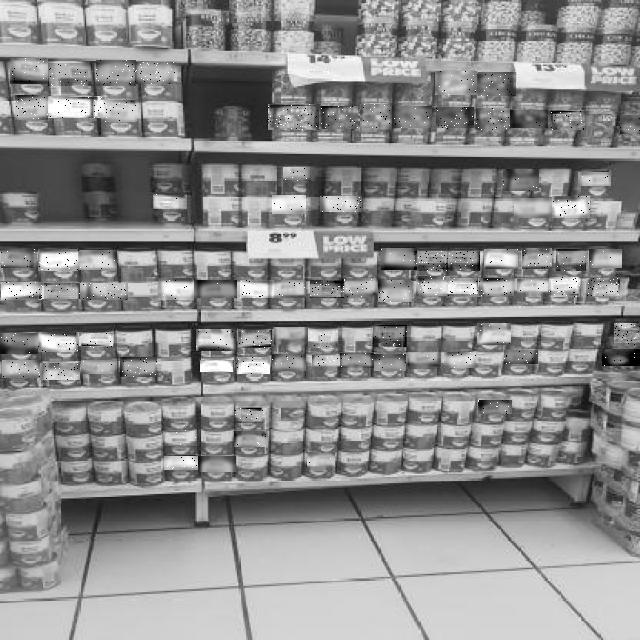Beans: (268, 104, 320, 130), (48, 96, 104, 118), (96, 60, 136, 86), (48, 63, 92, 86), (435, 71, 477, 95), (10, 58, 48, 84), (478, 73, 516, 97), (319, 106, 358, 129), (360, 105, 392, 133), (136, 62, 176, 84), (393, 106, 433, 128), (39, 249, 79, 271), (196, 329, 236, 351), (37, 333, 79, 353), (437, 108, 475, 130), (552, 197, 590, 219), (15, 95, 48, 120), (80, 283, 128, 300), (77, 250, 117, 270), (0, 333, 38, 354), (101, 100, 137, 122), (503, 169, 539, 191), (381, 248, 417, 270), (158, 278, 194, 300), (374, 325, 410, 347), (194, 280, 237, 298), (514, 199, 552, 219), (340, 278, 380, 297), (2, 282, 44, 300), (476, 108, 510, 130), (379, 280, 413, 302), (477, 323, 511, 345), (308, 326, 342, 348), (274, 328, 308, 350), (120, 357, 157, 377), (549, 110, 585, 130), (2, 360, 41, 378), (510, 110, 548, 128), (485, 249, 519, 269), (414, 251, 448, 271), (416, 276, 450, 296), (40, 363, 80, 380), (321, 196, 363, 212), (40, 283, 82, 299), (556, 249, 586, 271), (271, 280, 307, 298), (272, 195, 306, 214), (2, 249, 36, 268), (448, 278, 482, 297), (586, 278, 620, 297), (602, 349, 640, 366), (448, 251, 480, 271), (522, 248, 552, 269), (589, 249, 622, 268), (549, 277, 580, 297), (311, 280, 345, 298), (240, 280, 274, 298), (239, 330, 273, 348), (162, 431, 200, 447), (198, 456, 236, 472), (481, 278, 514, 296), (272, 354, 306, 371), (236, 357, 270, 374), (614, 324, 640, 346), (234, 431, 268, 447), (79, 334, 113, 350), (340, 354, 374, 370), (374, 354, 406, 371), (154, 194, 190, 209), (444, 352, 476, 368), (408, 353, 440, 369), (81, 360, 117, 374), (517, 280, 548, 296), (479, 400, 513, 414), (165, 456, 199, 470), (504, 350, 538, 364), (578, 172, 611, 186), (307, 454, 335, 470), (234, 408, 263, 423), (201, 360, 235, 372), (284, 168, 312, 182), (312, 356, 340, 370), (620, 115, 640, 134)
